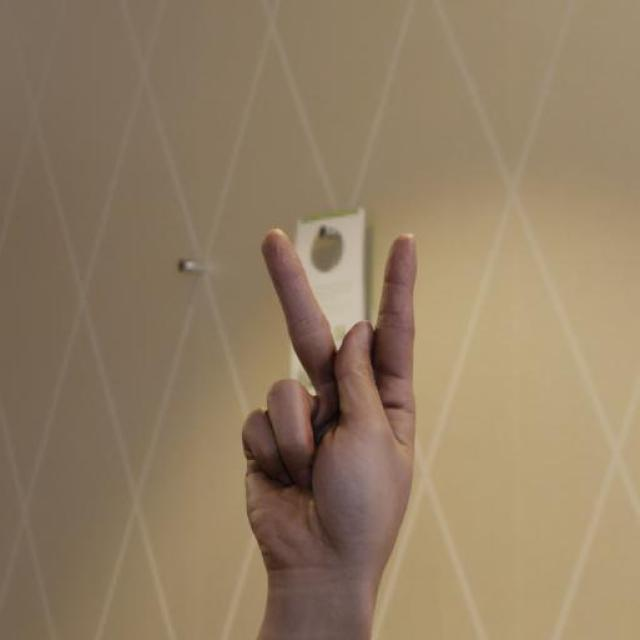K: (239, 226, 423, 580)
